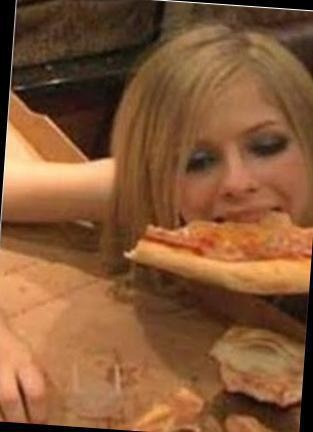Drunk: (157, 65, 309, 244)
